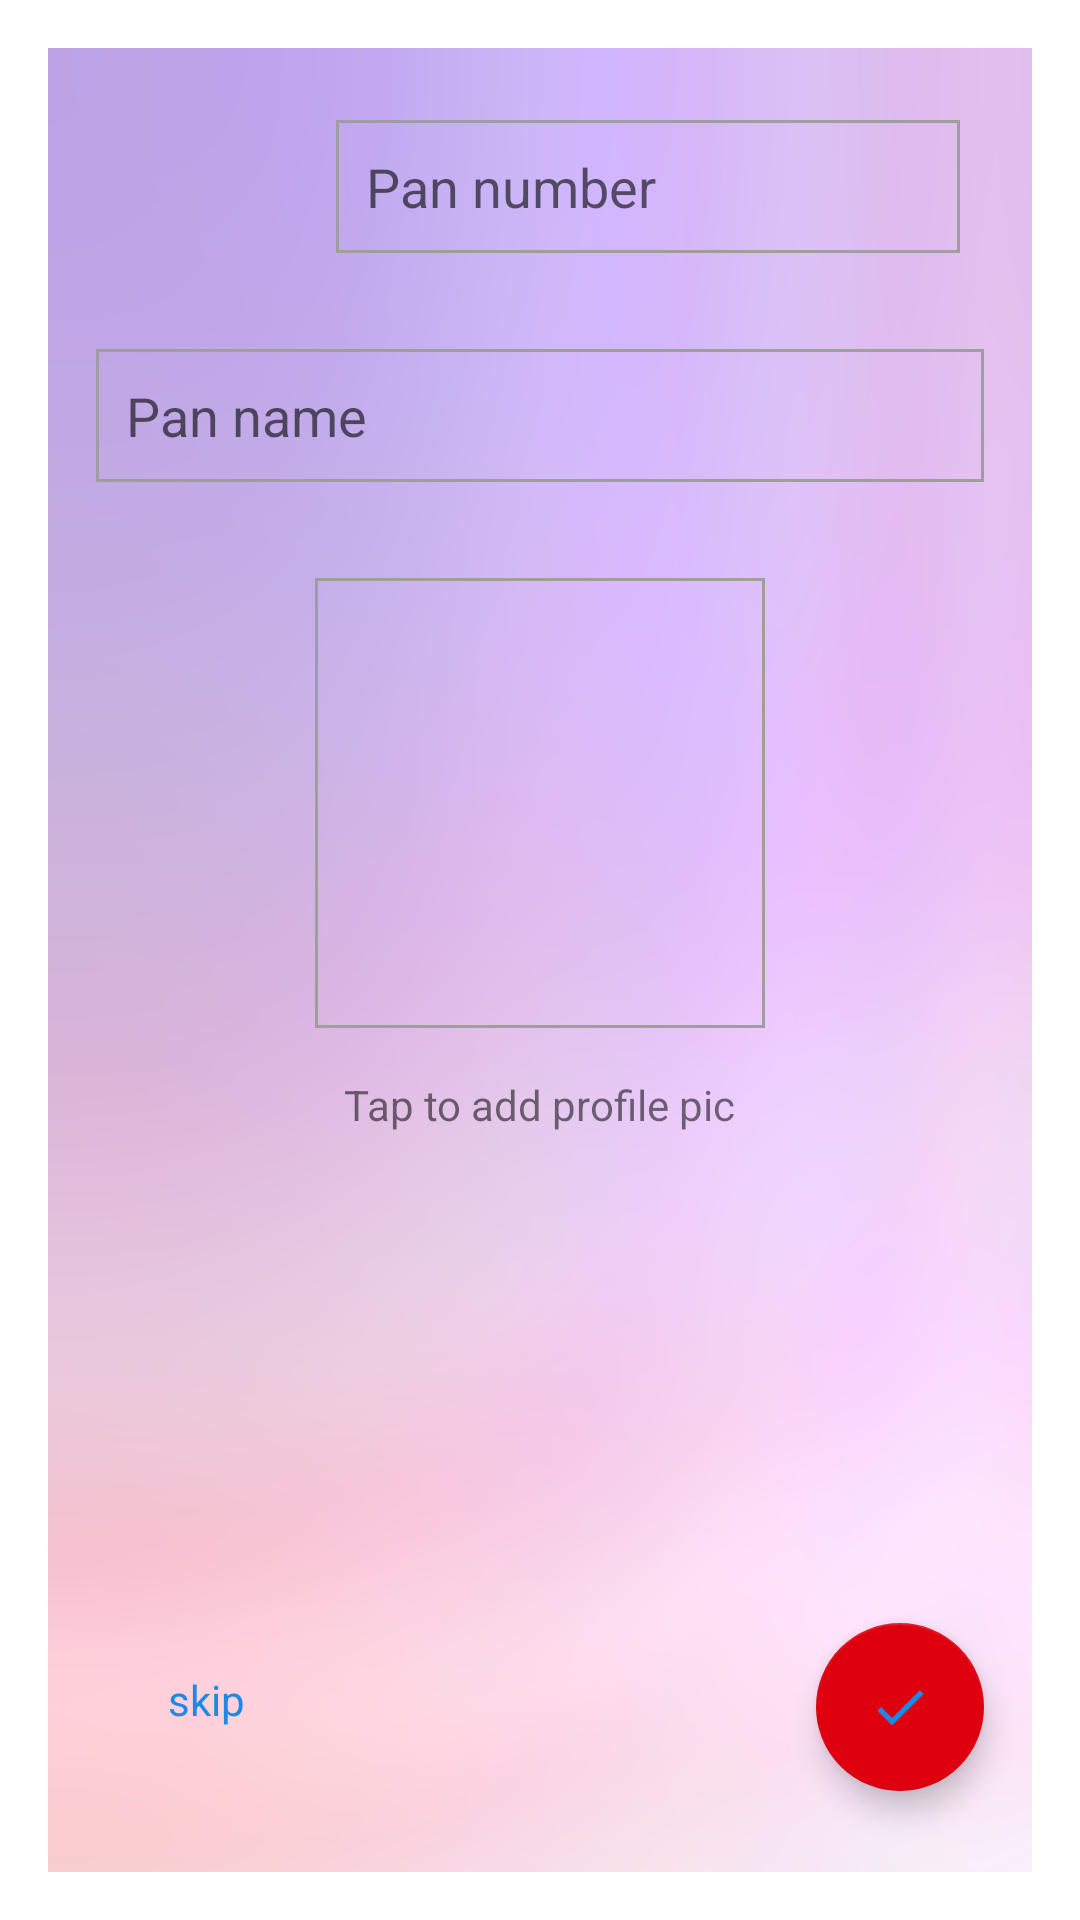

Where to tap for icons on this 1080px x 1920px app screen, as (x=x, y=y):
done: (x=900, y=1707)
